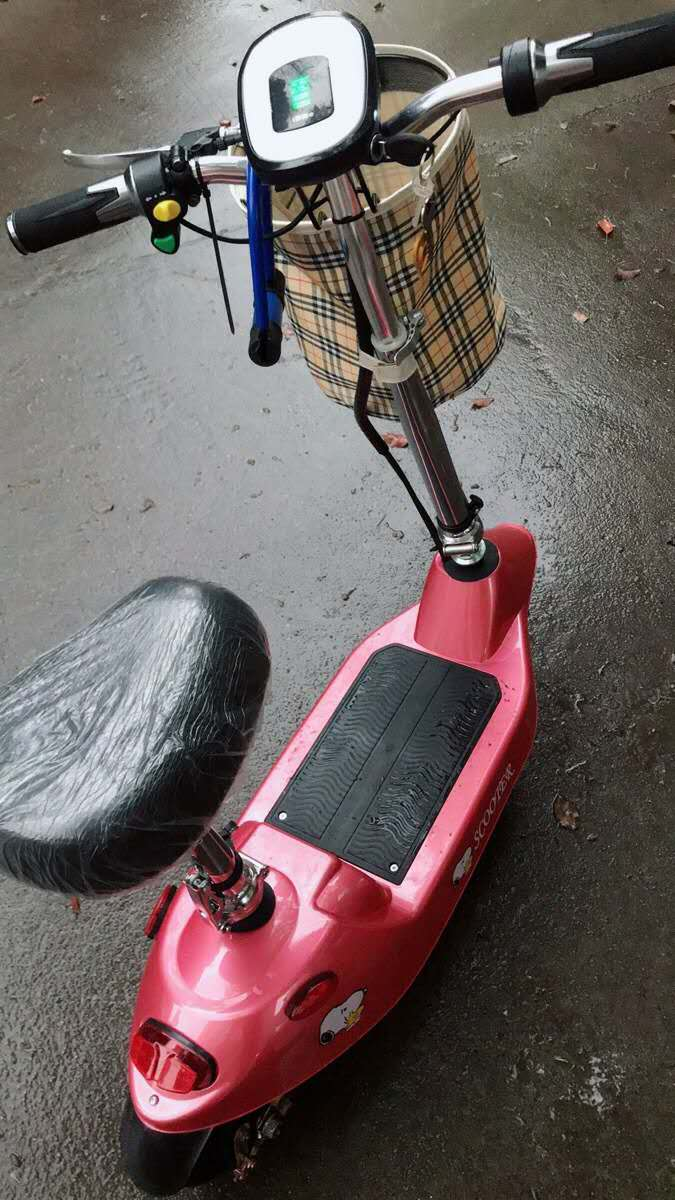电动车: (4, 13, 668, 1154)
